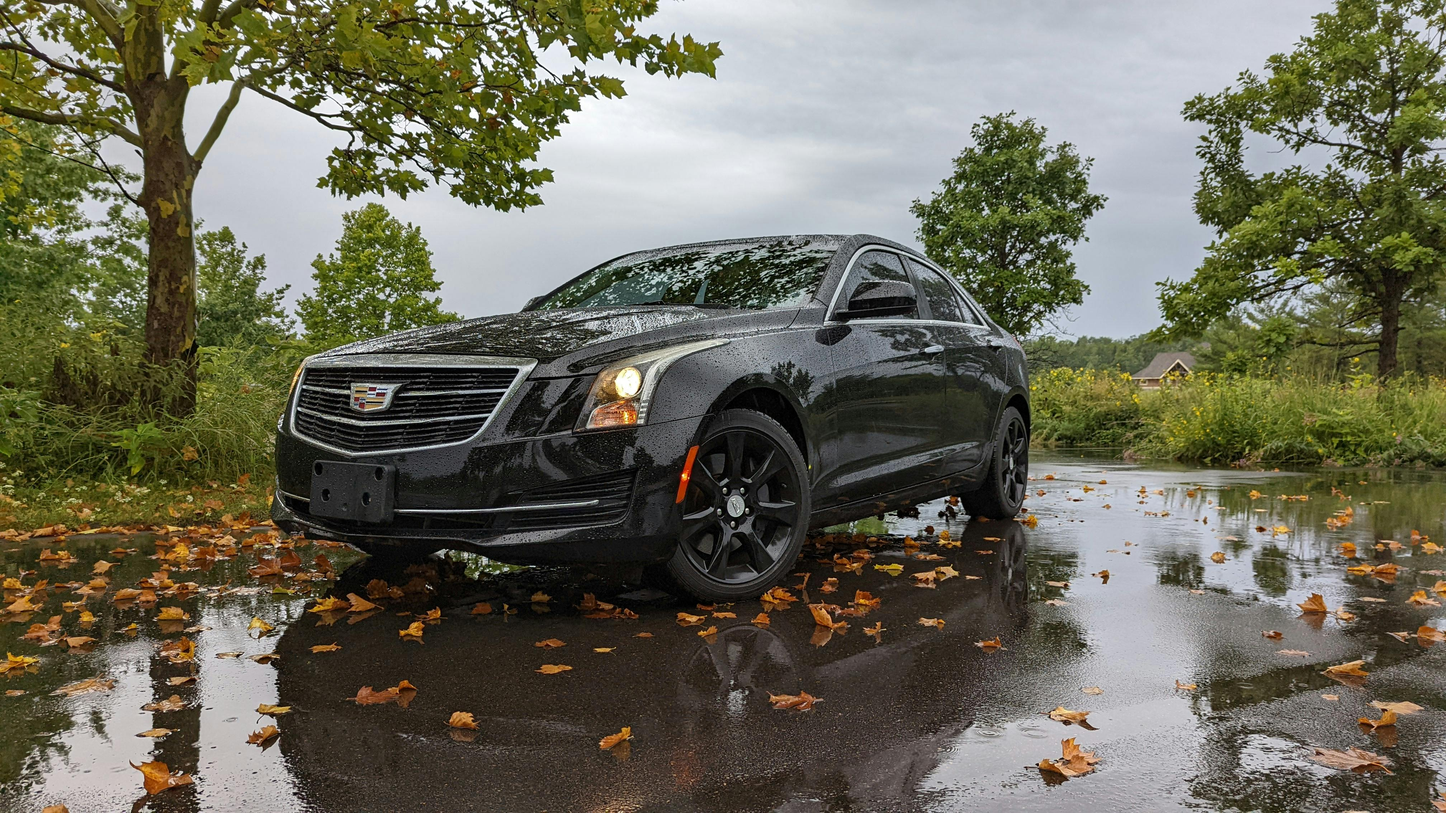other: (244, 237, 1030, 596)
